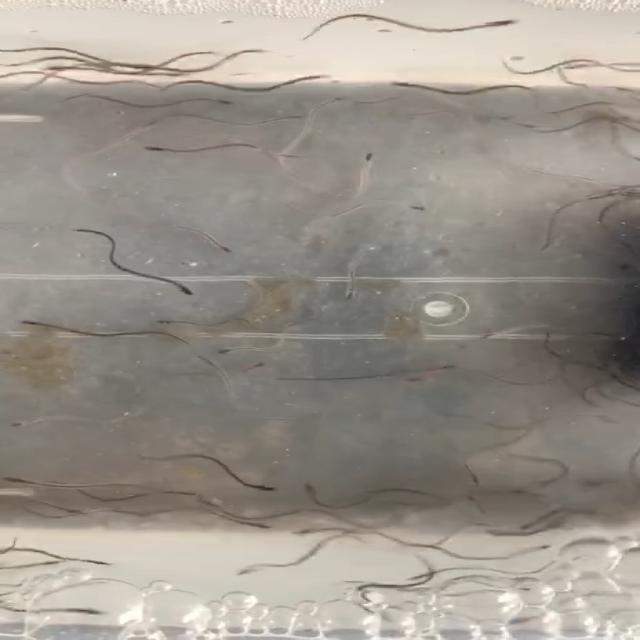active_glass_eel: (232, 562, 280, 580), (296, 476, 332, 498), (71, 606, 111, 624), (315, 91, 357, 108), (558, 58, 600, 74), (586, 410, 628, 426), (231, 517, 275, 532), (478, 325, 520, 339), (203, 241, 237, 258), (211, 344, 252, 358), (401, 371, 439, 386), (479, 15, 523, 27), (388, 76, 425, 90), (195, 95, 244, 105), (457, 490, 484, 508), (34, 65, 82, 75), (0, 476, 40, 488), (243, 482, 276, 496), (337, 284, 364, 301), (292, 74, 333, 85), (510, 481, 540, 496), (134, 116, 162, 132), (612, 255, 640, 271), (292, 528, 329, 540), (51, 504, 87, 516), (353, 150, 378, 167), (525, 540, 559, 552), (194, 496, 228, 508), (386, 202, 426, 212), (11, 416, 44, 428), (165, 282, 193, 296), (230, 49, 269, 59), (594, 191, 633, 201), (515, 518, 545, 531), (267, 113, 305, 123), (153, 317, 187, 328), (190, 354, 220, 366), (466, 471, 488, 487), (248, 361, 272, 374), (427, 364, 458, 374), (134, 146, 170, 154), (487, 113, 519, 122), (517, 120, 543, 130)
